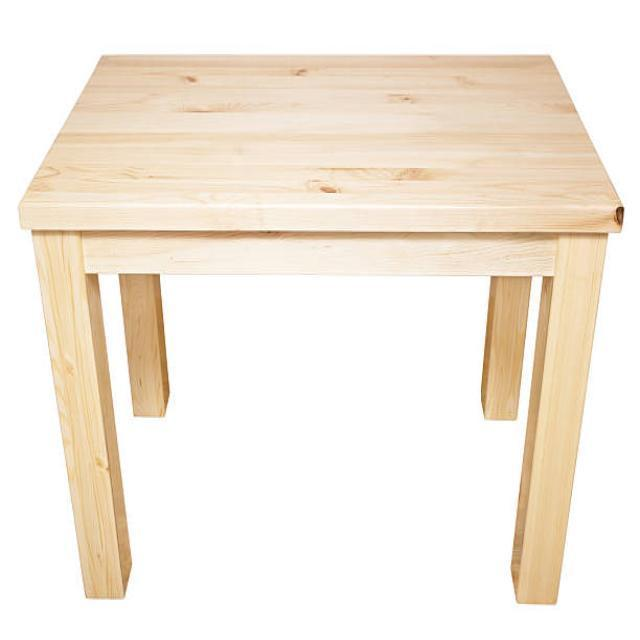table: (16, 49, 624, 606)
